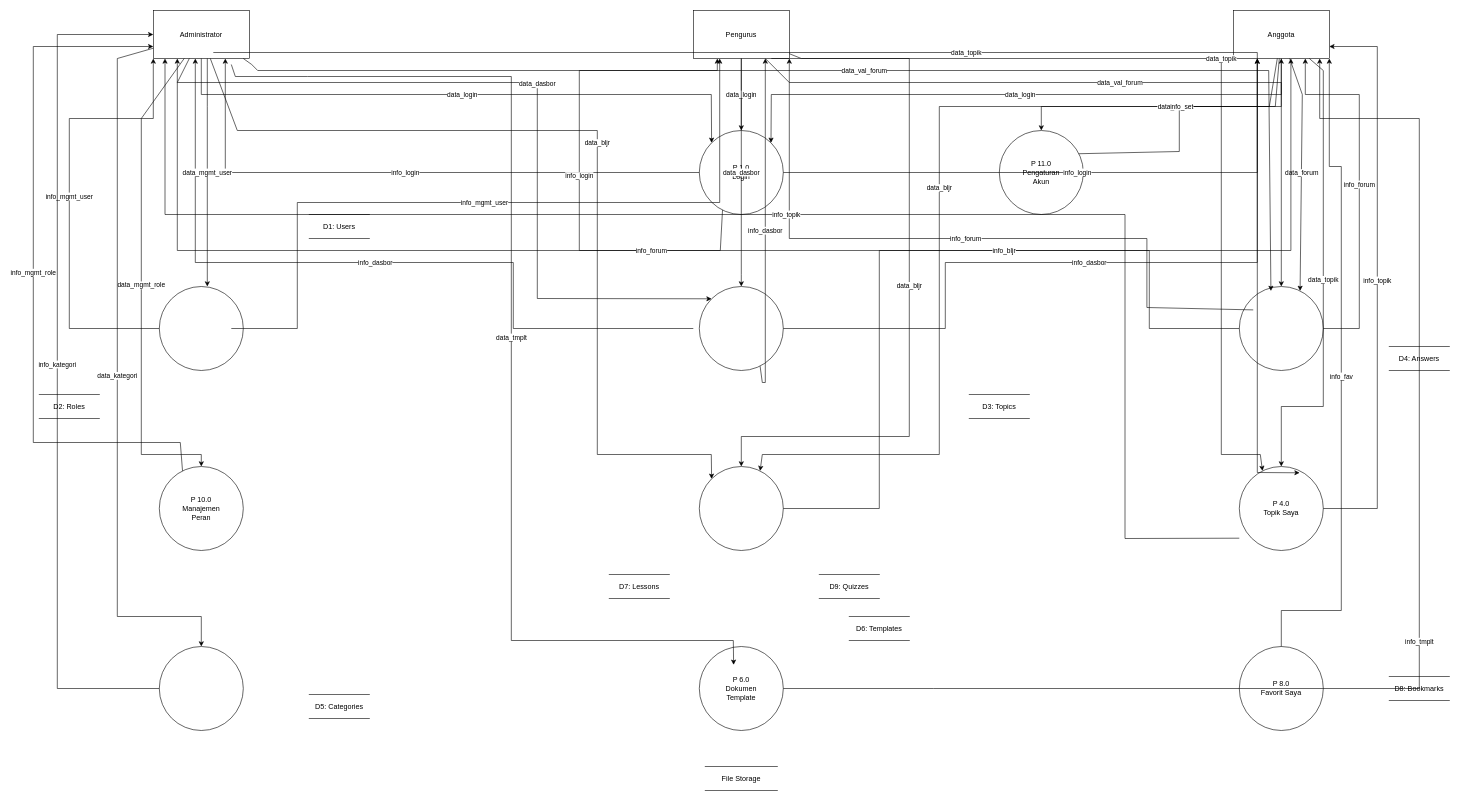
Image size: 1460x801. Some labels were removed from this diagram. Here are the shapes that lost their labels. From the top down, the centre of each, then its label:
At (201,328): "P 9.0 Manajemen Pengguna".
At (741,328): "P 2.0 Dashboard".
At (1281,328): "P 3.0 Forum Diskusi".
At (741,508): "P 5.0 Pembelajaran".
At (201,688): "P 7.0 Kategori".
